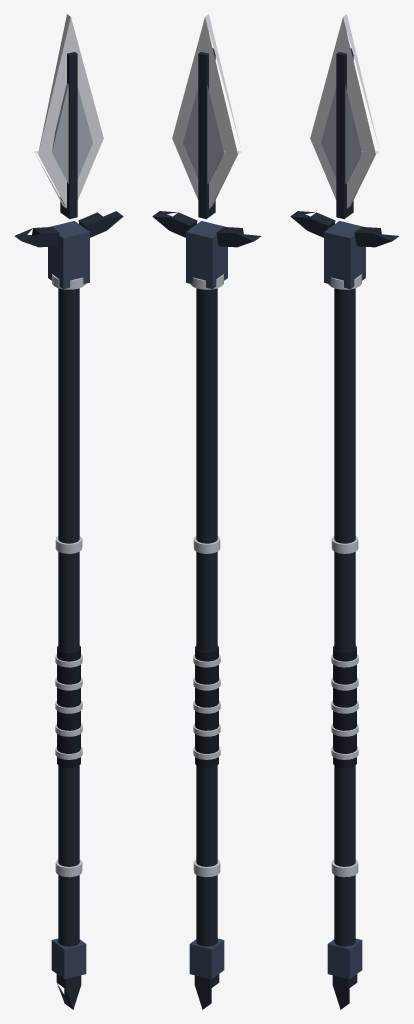
3 views of the same model, side by side, from view 1: azimuth 30°, elevation 25°; view 2: azimuth 150°, elevation 25°; view 3: azimuth 330°, elevation 25° (orthographic).
Parts seen in each view (by area): view 1: void-spear; view 2: void-spear; view 3: void-spear.
Boxes of the visible parts, bbox=[...] form: void-spear: bbox=[14, 14, 123, 1009]; void-spear: bbox=[152, 14, 261, 1009]; void-spear: bbox=[290, 14, 399, 1009].
Bounding box in the file's own units: 0.1945 × 1.8 × 0.0568.
